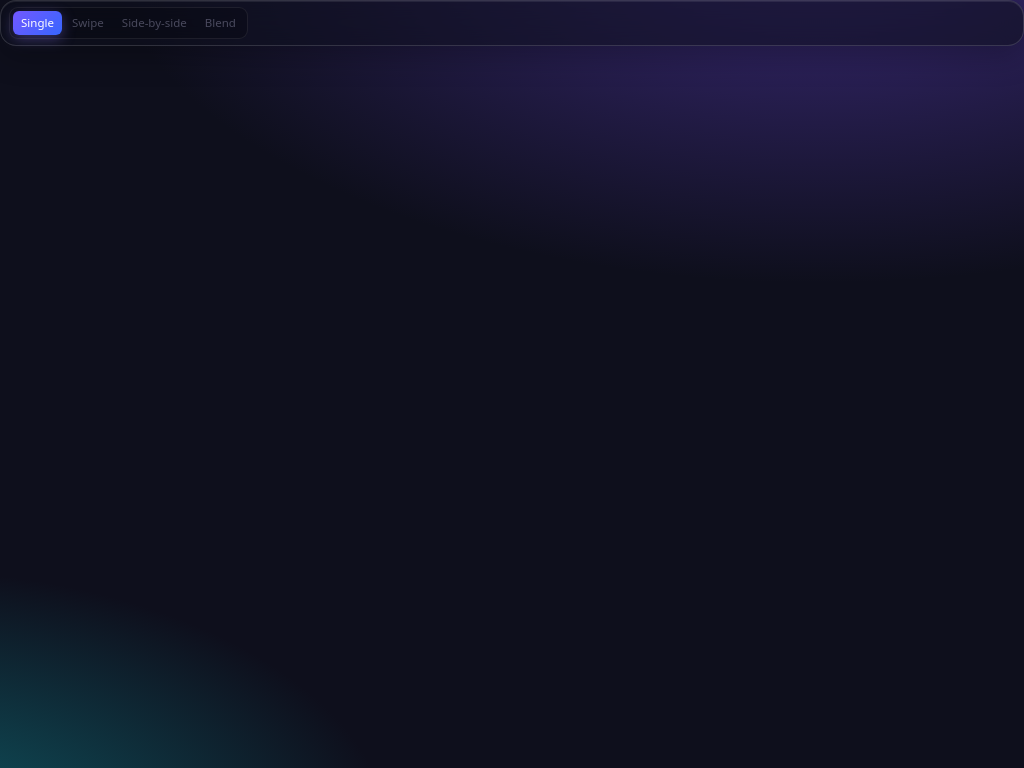
Test: CompareBar (M §5 Compare) › says there are no surveys yet and offers no date chip with none
The image size is (1024, 768).
Expected: the radio button labelled "Swipe" is disabled, top-left (64, 11), bottom-right (112, 35)
Expected: the button "Survey" is not shown
Hover over the element named "Compare mode" at (128, 23), box top-left (9, 7), bottom-right (248, 39)
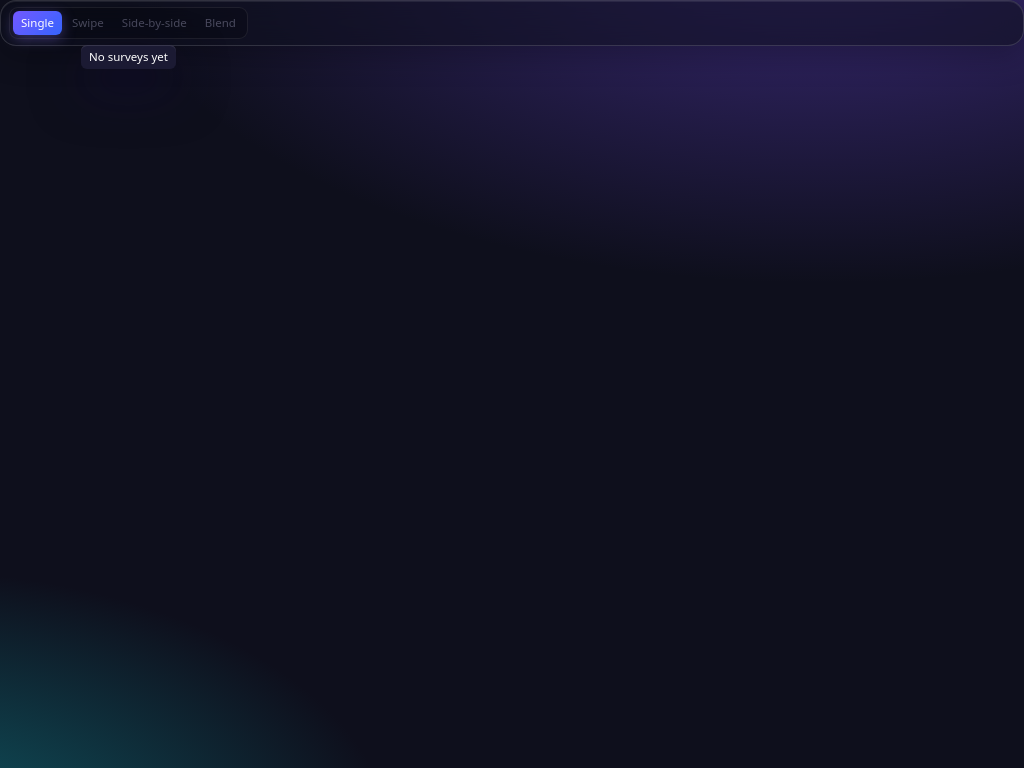
Result: the tooltip "No surveys yet" is shown at top-left (81, 45), bottom-right (176, 69)
